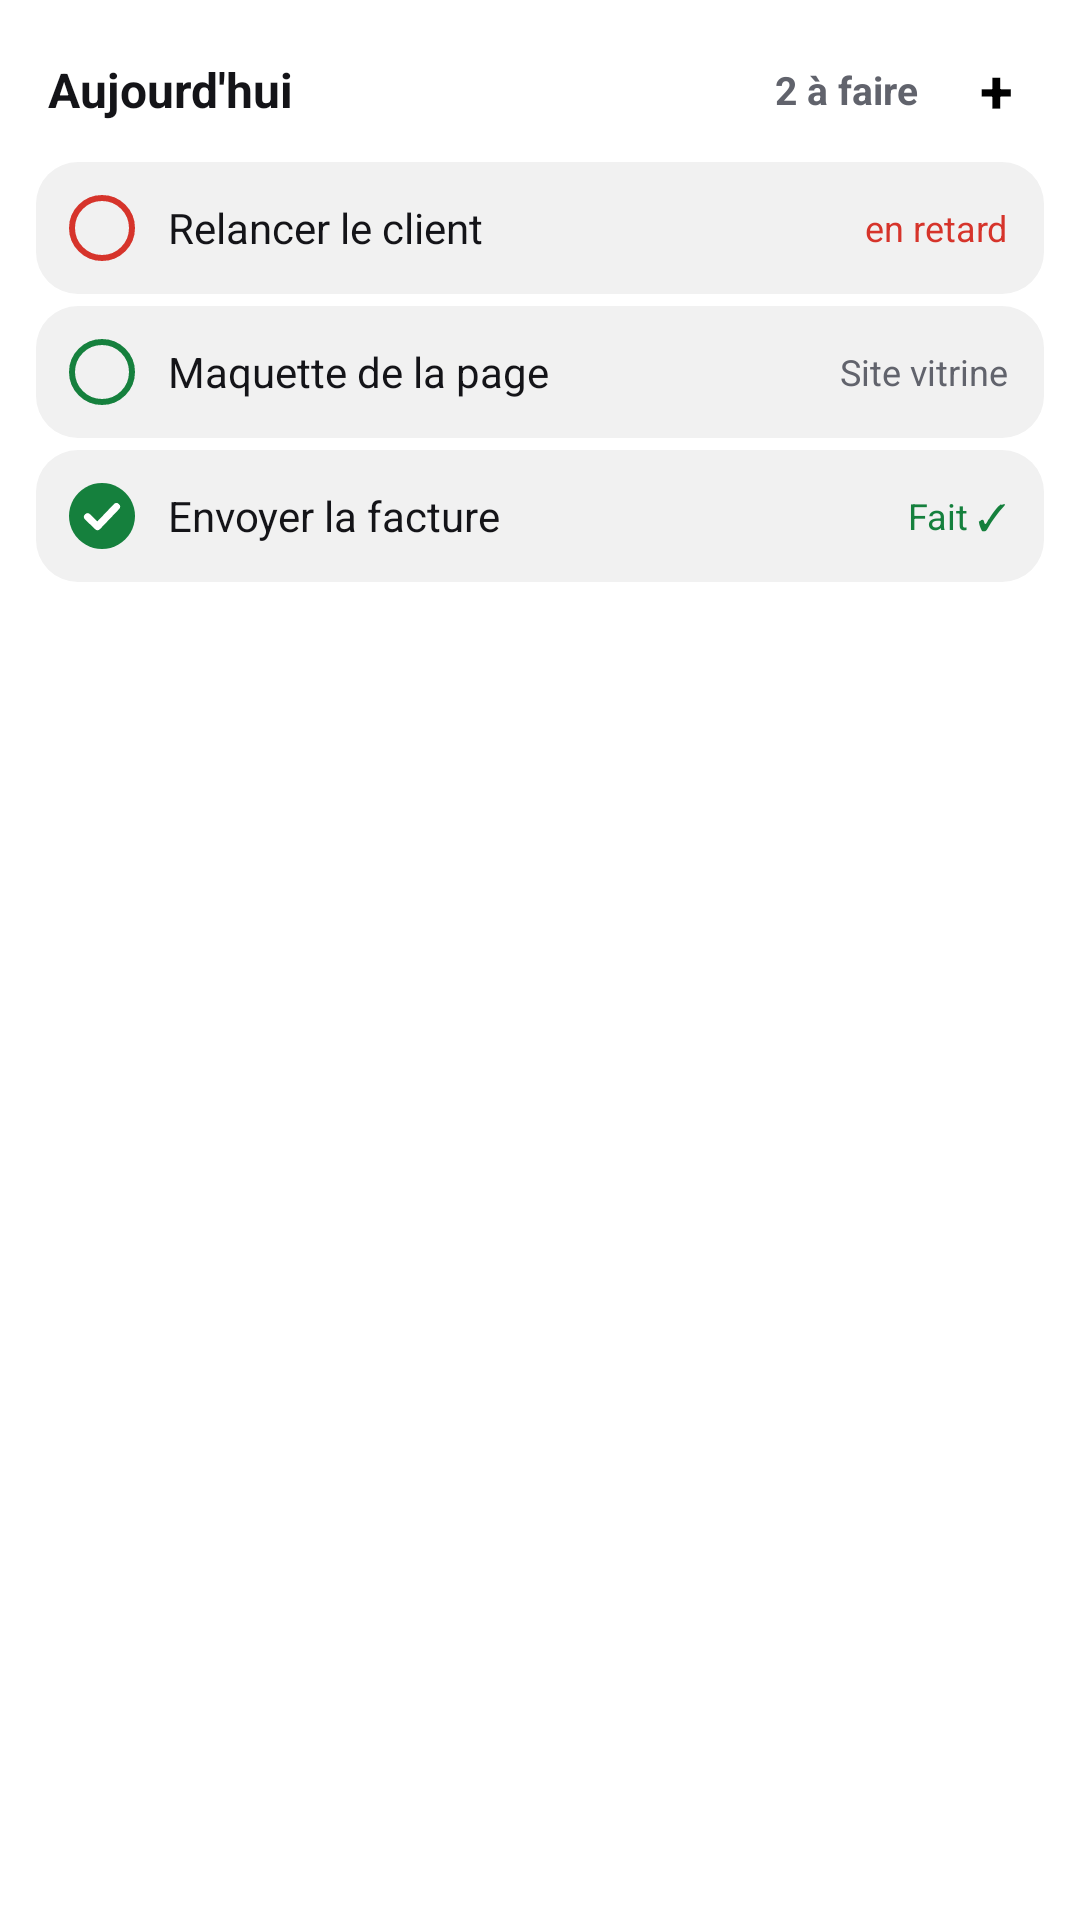

Screen size 1080px×1920px. Icon name, then its center in pixels as [x,y]:
widget check: [102,372]
widget check done: [102,516]
widget check late: [102,228]
